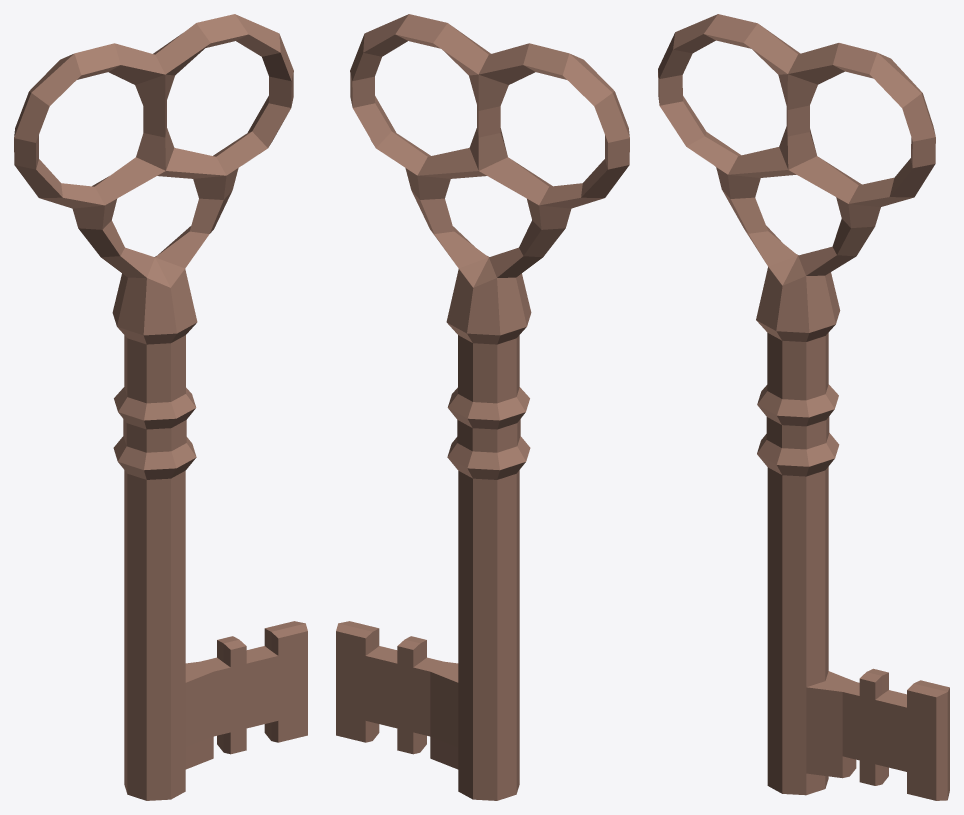
File: Schlüssel.fbx
The picture shows the model from 3 angles, left to right: view 1: azimuth 30°, elevation 25°; view 2: azimuth 150°, elevation 25°; view 3: azimuth 330°, elevation 25°; orthographic projection.
Parts seen in each view (by area): view 1: Zylinder; view 2: Zylinder; view 3: Zylinder.
Boxes of the visible parts, x1=… form: Zylinder: x1=14, y1=14, x2=307, y2=800; Zylinder: x1=336, y1=14, x2=629, y2=800; Zylinder: x1=658, y1=14, x2=949, y2=800.
Bounding box in the file's own units: 5.25 × 13.13 × 1.37.
